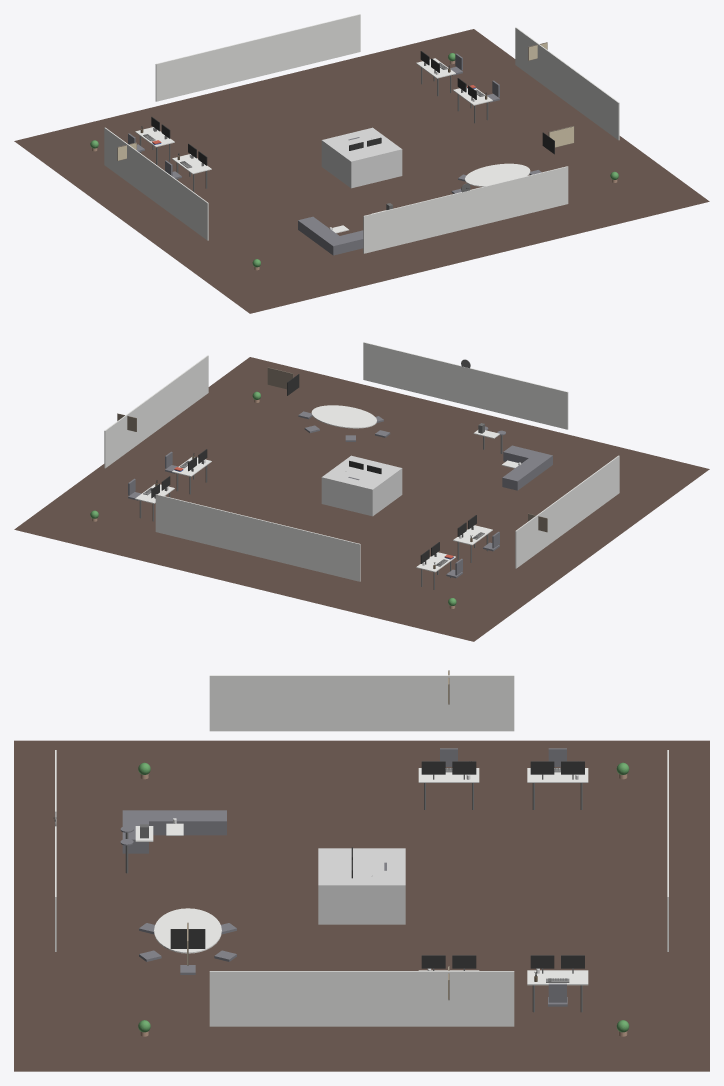
The model's file is office_v31.glb.
3 views of the same model, one above another, from view 1: azimuth 30°, elevation 25°; view 2: azimuth 150°, elevation 25°; view 3: azimuth 270°, elevation 25° (orthographic). The views are drawn at different scales.
Parts seen in each view (by area): view 1: Floor, Wall_North, Wall_South, Wall_West, Wall_East, Cube, Cylinder.055, Cube.264, Cube.263; view 2: Floor, Wall_North, Wall_South, Wall_West, Wall_East, Cube, Cylinder.055, Cube.263, Cube.264; view 3: Floor, Wall_West, Wall_East, Cube, Cylinder.055, Cube.263, Desk_5, Cube.264, Cube.262.
Boxes of the visible parts, bbox=[...] form: Floor: bbox=[14, 29, 709, 313]; Wall_North: bbox=[155, 14, 360, 101]; Wall_South: bbox=[363, 166, 568, 253]; Wall_West: bbox=[104, 127, 208, 240]; Wall_East: bbox=[515, 27, 619, 140]; Cube: bbox=[321, 127, 402, 188]; Cylinder.055: bbox=[465, 163, 530, 186]; Cube.264: bbox=[324, 230, 363, 255]; Cube.263: bbox=[298, 216, 338, 248]; Floor: bbox=[14, 357, 709, 641]; Wall_North: bbox=[155, 494, 360, 581]; Wall_South: bbox=[363, 342, 568, 429]; Wall_West: bbox=[515, 455, 619, 568]; Wall_East: bbox=[104, 355, 208, 468]; Cube: bbox=[321, 455, 402, 516]; Cylinder.055: bbox=[311, 405, 376, 428]; Cube.263: bbox=[502, 458, 544, 490]; Cube.264: bbox=[503, 445, 552, 470]; Floor: bbox=[14, 740, 709, 1071]; Wall_West: bbox=[209, 675, 514, 731]; Wall_East: bbox=[209, 971, 514, 1026]; Cube: bbox=[318, 848, 405, 924]; Cylinder.055: bbox=[154, 908, 221, 953]; Cube.263: bbox=[149, 810, 226, 835]; Desk_5: bbox=[527, 970, 588, 985]; Cube.264: bbox=[122, 810, 148, 853]; Cube.262: bbox=[170, 929, 205, 948].
Size of the model in its own units: 18 by 3.38 by 16.
